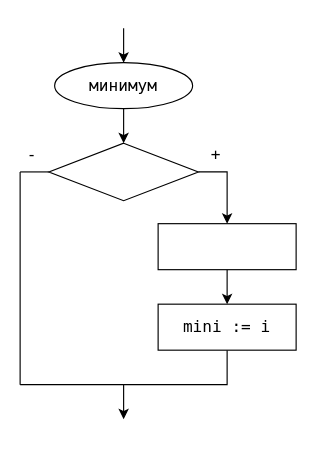
The diagram is 316 pixels wide and 449 high, and some of its shapes have lost their labels. Each missing label, with the centre of its shape:
a <= min: point (123, 171)
min := a: point (226, 246)
